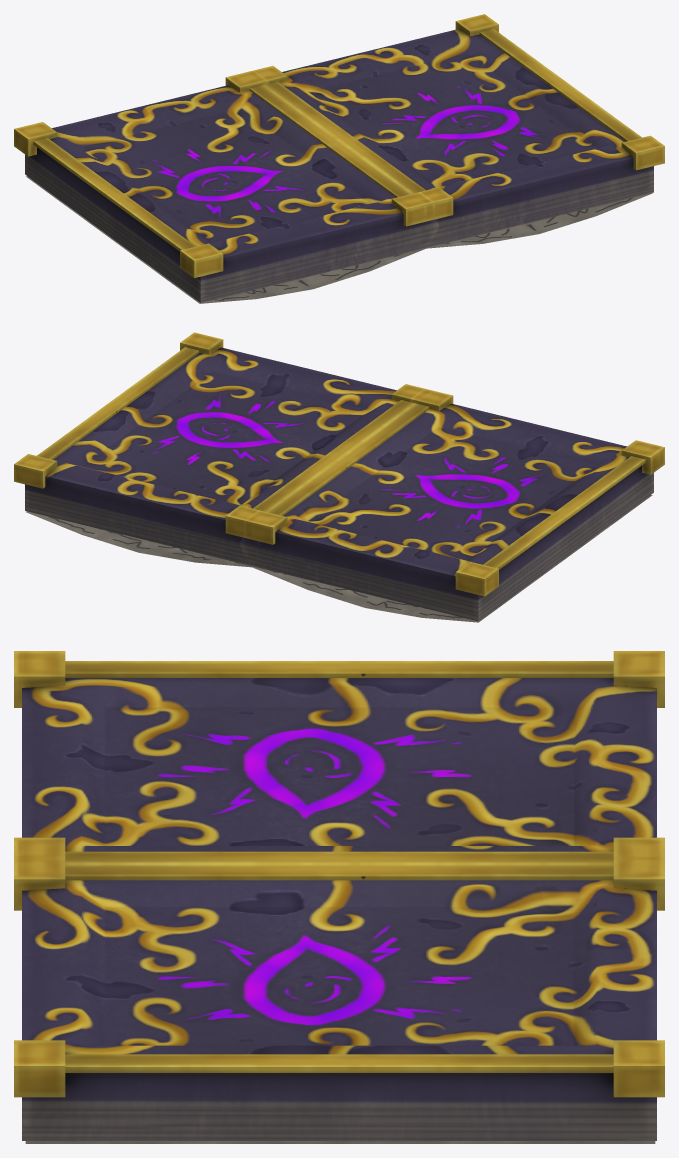
Rendered from Book.FBX.
3 renders of one model, top to bottom at view 1: azimuth 30°, elevation 25°; view 2: azimuth 150°, elevation 25°; view 3: azimuth 270°, elevation 25°, orthographic. The views are drawn at different scales.
Visible parts, largest first — view 1: Book; view 2: Book; view 3: Book.
Boxes of the visible parts, x1,y1,x2,y2 form: Book: [14, 14, 664, 303]; Book: [14, 332, 664, 622]; Book: [14, 651, 664, 1143].
Bounding box in the file's own units: 31.14 × 3.83 × 20.66.
1 material, 1 textured.
